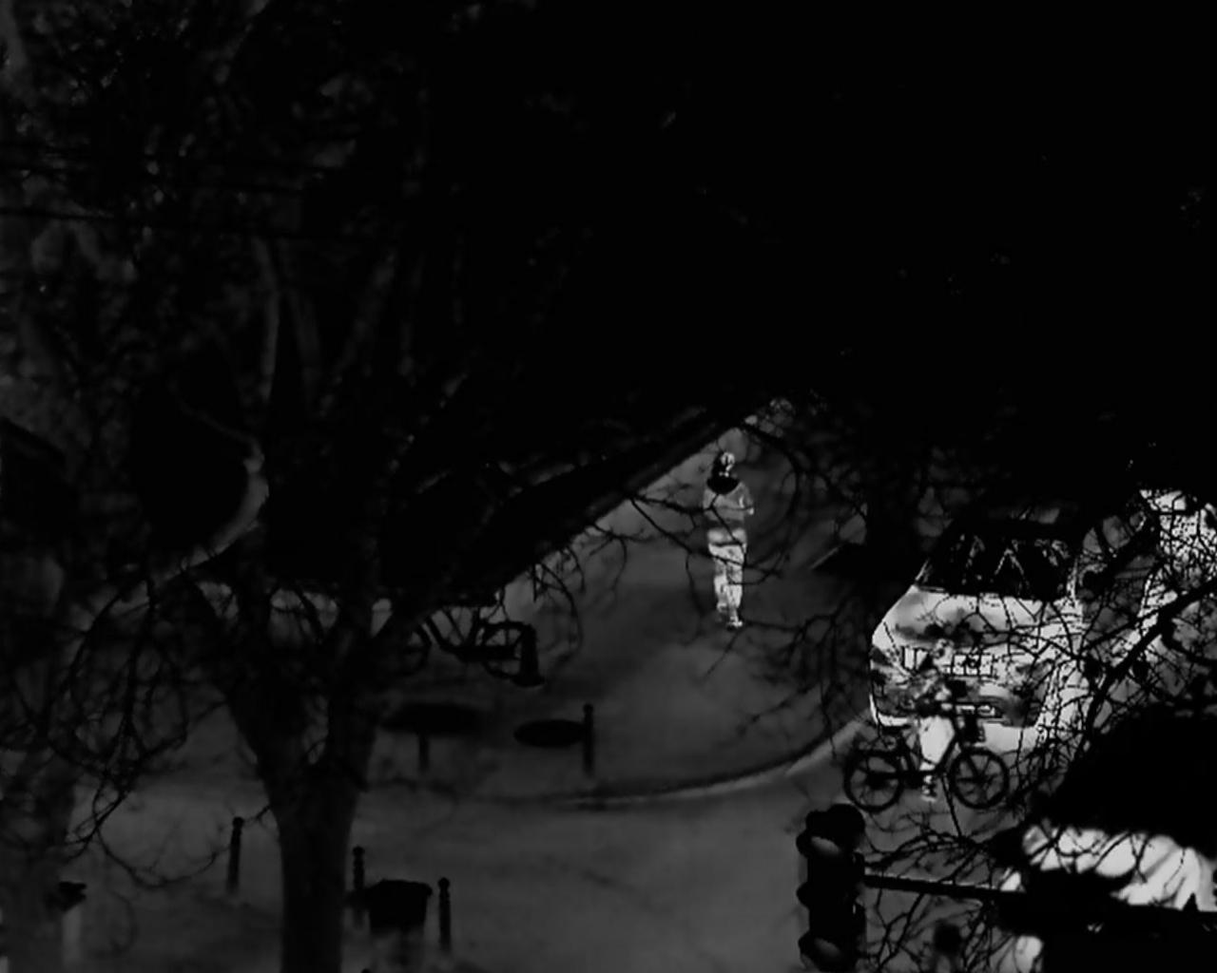person: (700, 451, 754, 631), (907, 636, 956, 803)
